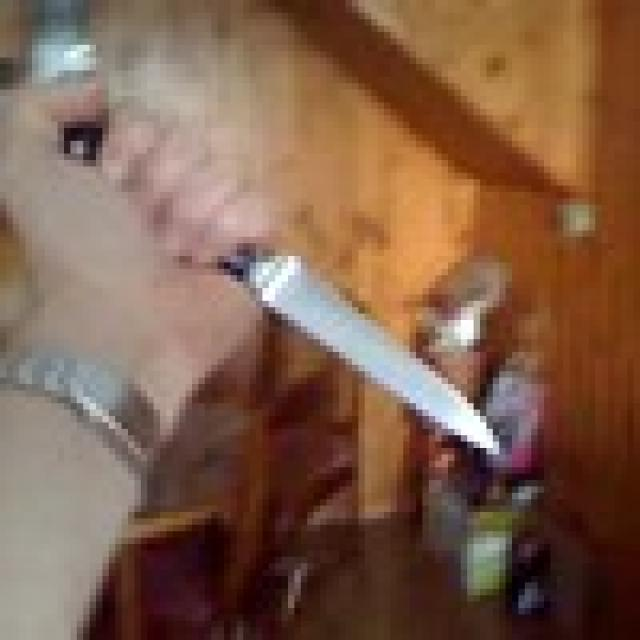Knife: (69, 108, 498, 446)
